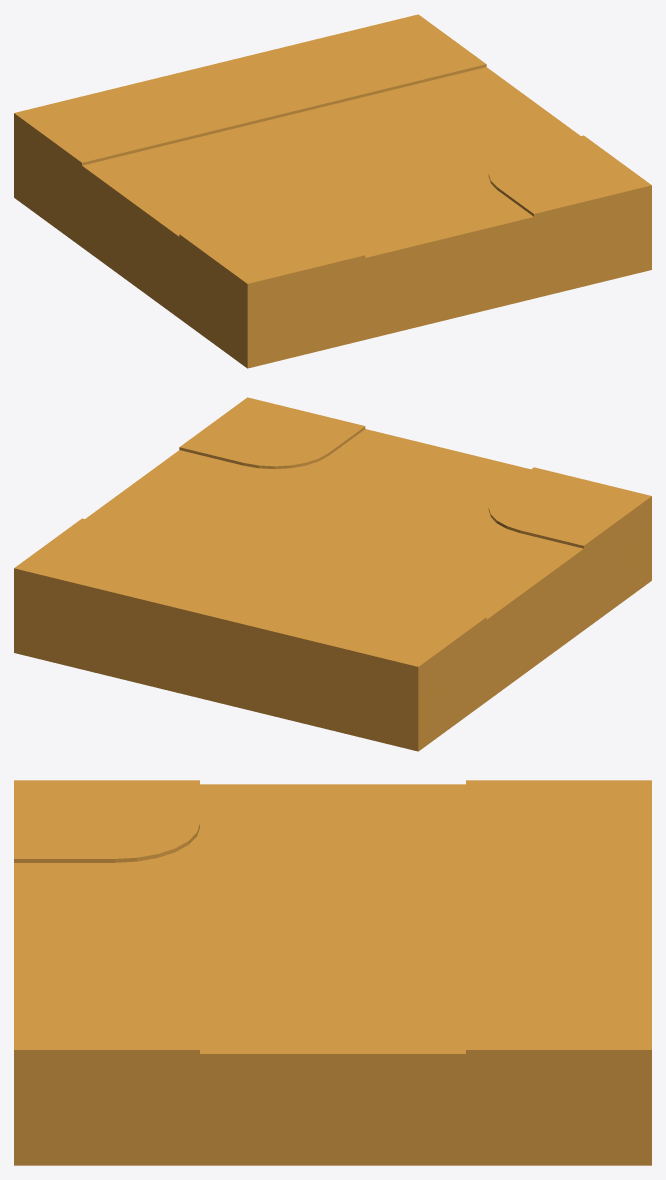
The model's file is tile-mainroad-intersection-t.glb.
3 views of the same model, one above another, from view 1: azimuth 30°, elevation 25°; view 2: azimuth 150°, elevation 25°; view 3: azimuth 270°, elevation 25° (orthographic). The views are drawn at different scales.
Parts seen in each view (by area): view 1: tile-mainroad-intersection-t; view 2: tile-mainroad-intersection-t; view 3: tile-mainroad-intersection-t.
Part boxes in pixels (bbox=[...]): tile-mainroad-intersection-t: bbox=[14, 14, 651, 368]; tile-mainroad-intersection-t: bbox=[14, 397, 651, 751]; tile-mainroad-intersection-t: bbox=[14, 780, 651, 1165].
Bounding box in the file's own units: 30 × 6 × 30.
